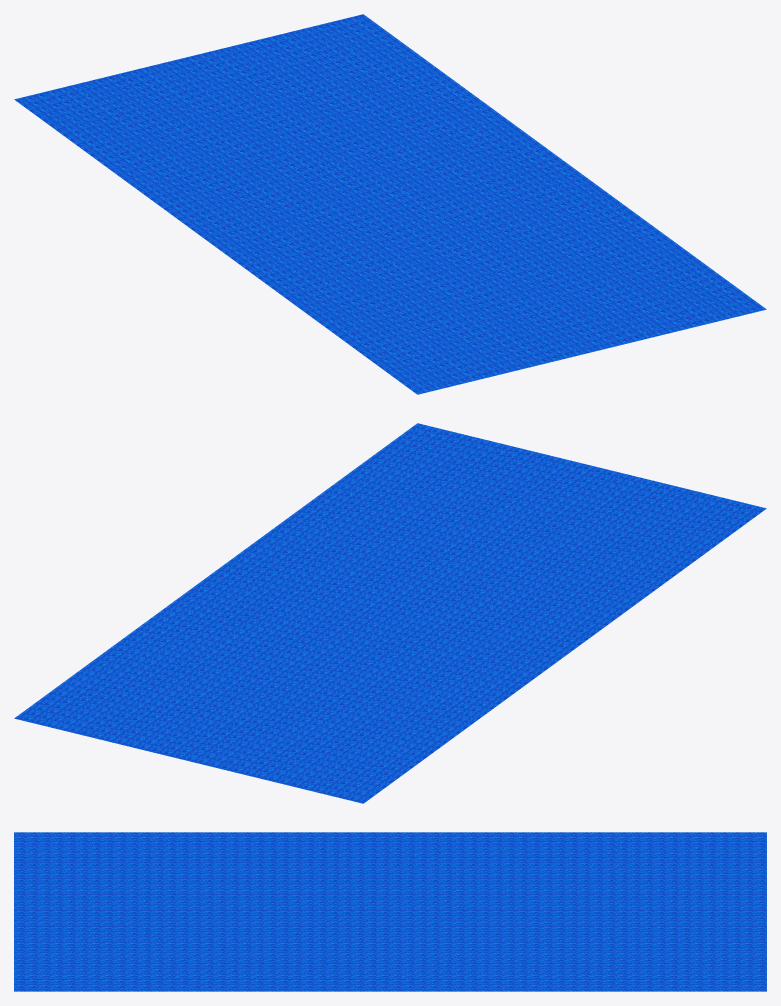
The model's file is Water.fbx.
The picture shows the model from 3 angles, top to bottom: view 1: azimuth 30°, elevation 25°; view 2: azimuth 150°, elevation 25°; view 3: azimuth 270°, elevation 25°; orthographic projection. The views are drawn at different scales.
Parts seen in each view (by area): view 1: Agua_00; view 2: Agua_00; view 3: Agua_00.
Part boxes in pixels (x1,y1,x2,y2): Agua_00: (14,14,766,394); Agua_00: (14,423,766,803); Agua_00: (14,832,766,991).
Bounding box in the file's own units: 137 × 1.09e-07 × 275.
